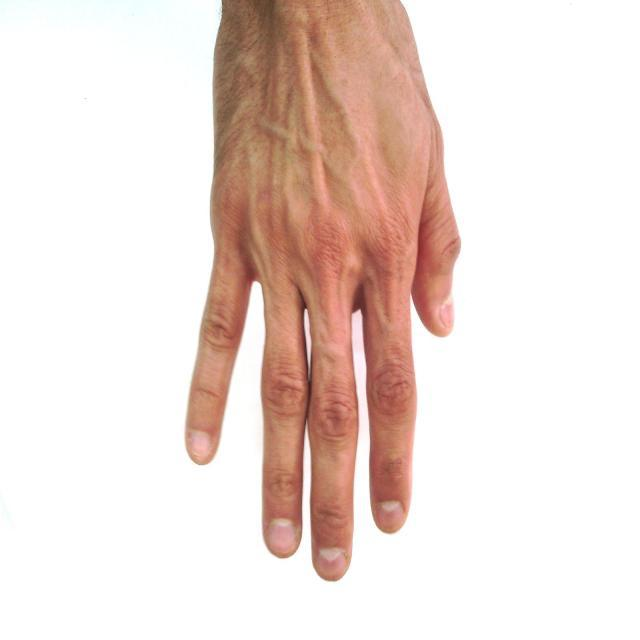Fingernail: (269, 519, 296, 555), (319, 549, 345, 576), (378, 501, 403, 527), (190, 432, 211, 459), (441, 300, 453, 329)
